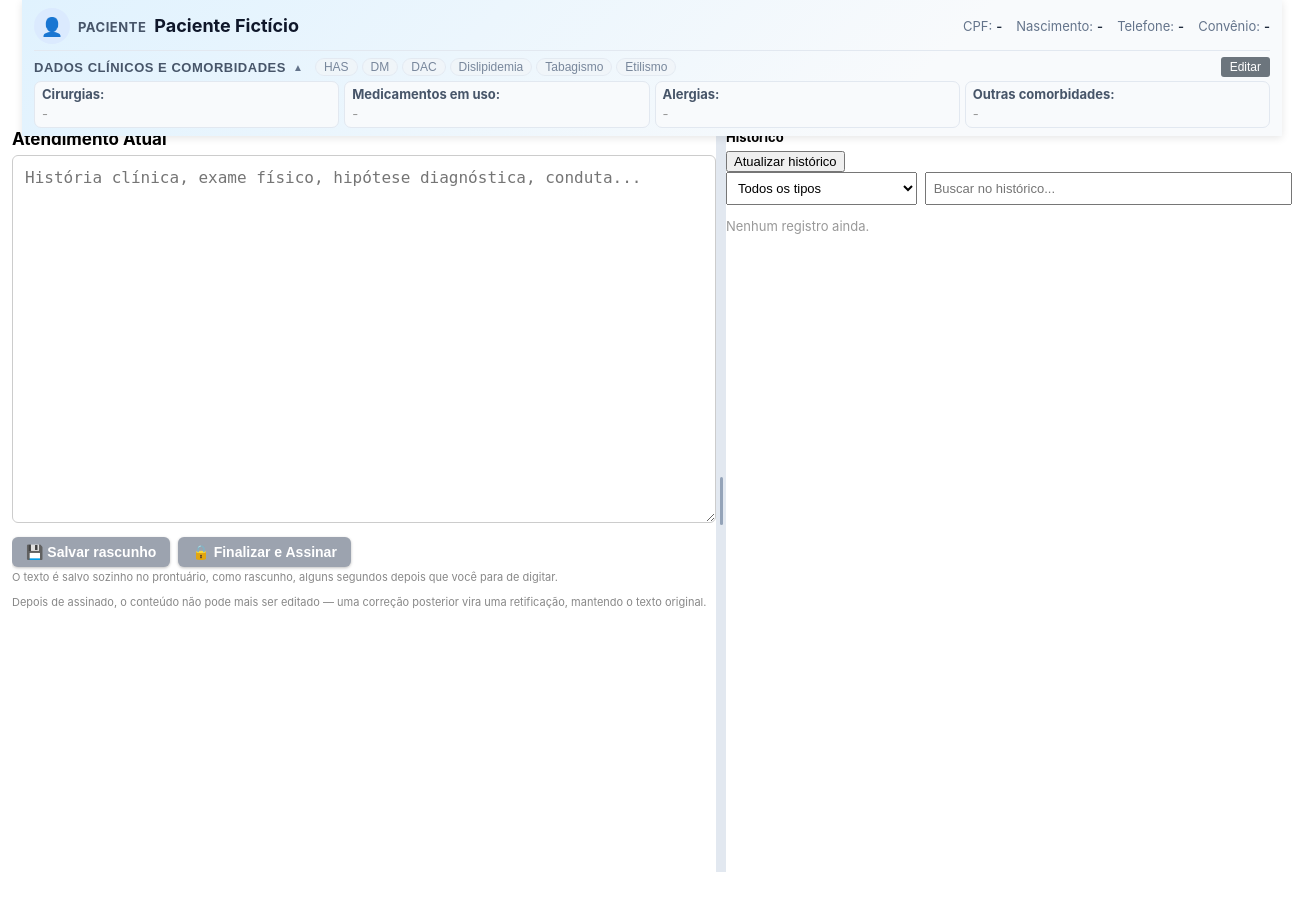
Test: falha no armazenamento da aba não transforma gravação confirmada no servidor em erro
expect the text "Nenhum registro ainda." is shown: met, box [726,218,869,234]
Replace the text in the text box with placeholder "História clínica, exame físico, hipótese diagnóstica, conduta..." with "Texto" at coordinates (364, 339), box [12,155,716,523]
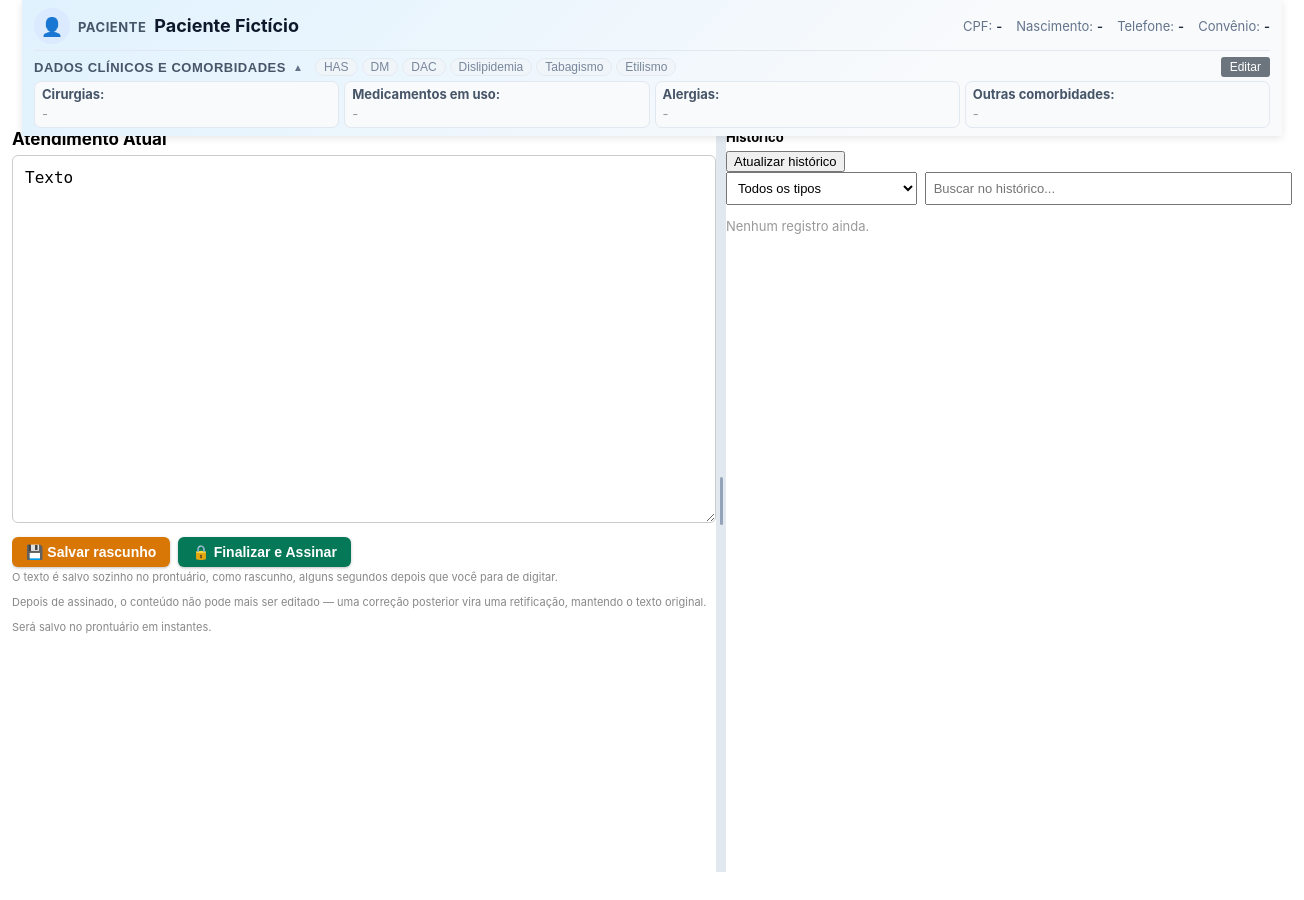
Click the button "💾 Salvar rascunho".
click(91, 552)  # box [12,537,170,567]
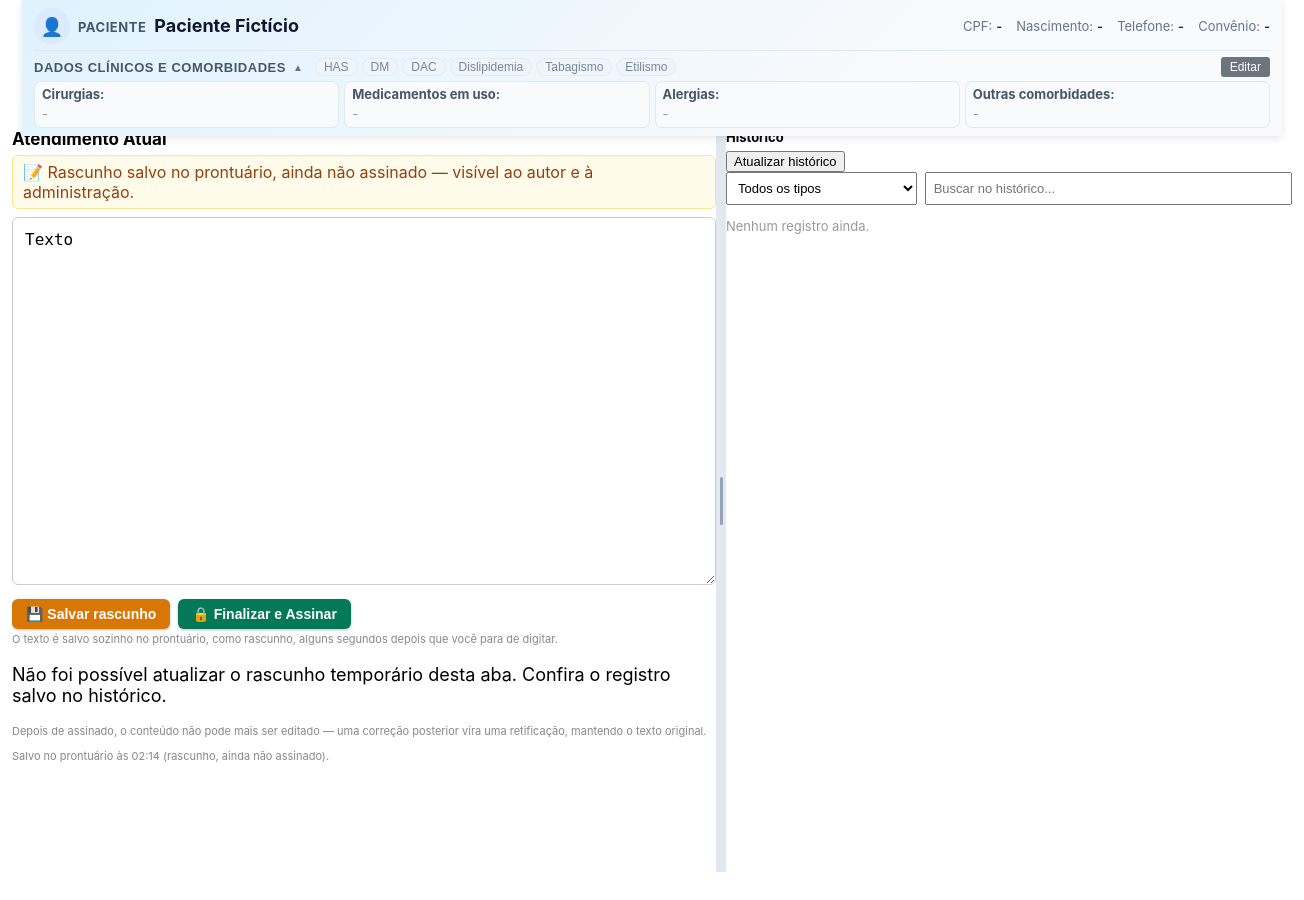
expect the 1st message shows "Não foi possível atualizar o rascunho temporário": met, box [12,664,670,706]
expect the text "Rascunho salvo no prontuário, ainda não assinado" is shown: met, box [23,162,593,202]
